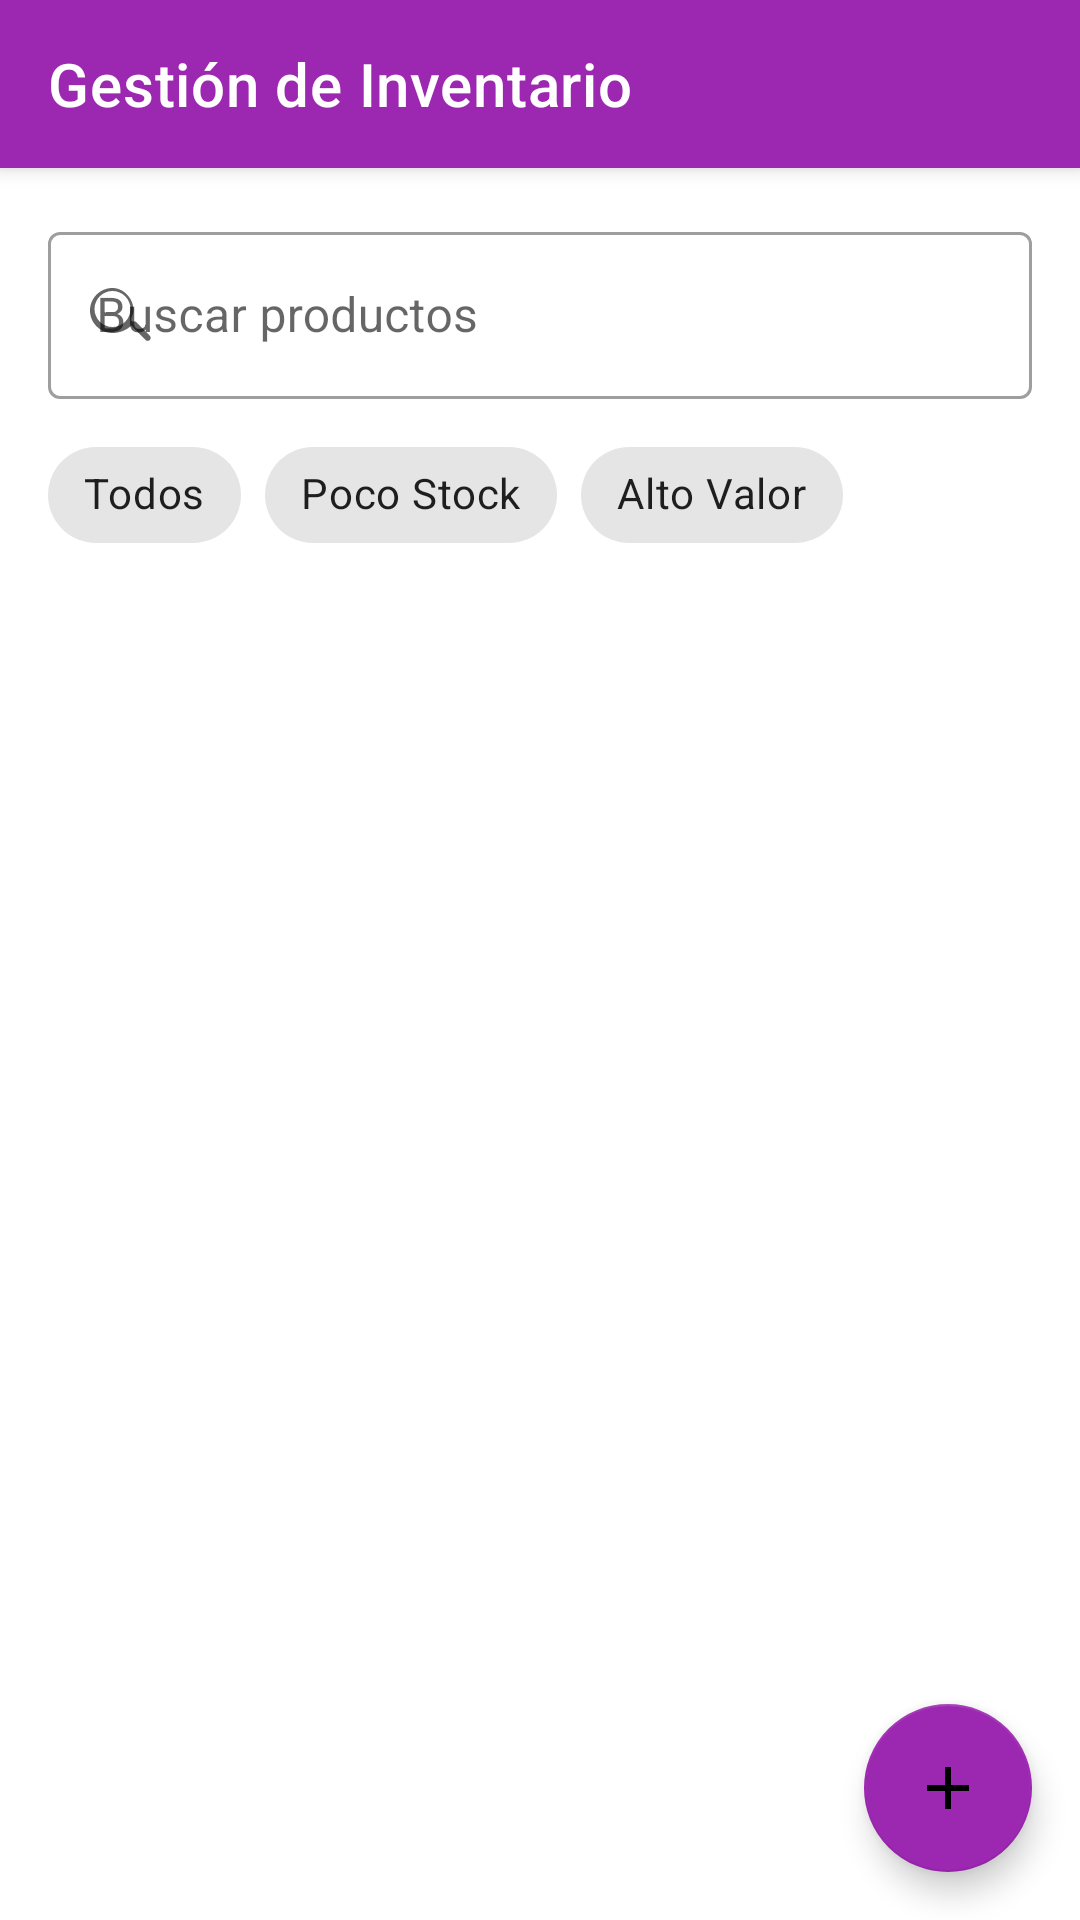

Icons on this 1080*1920 Android screen, each with its box as (x1=x1, y1=y1, x2=x2, y2=y2):
Agregar Producto: (x1=864, y1=1704, x2=1032, y2=1872)
